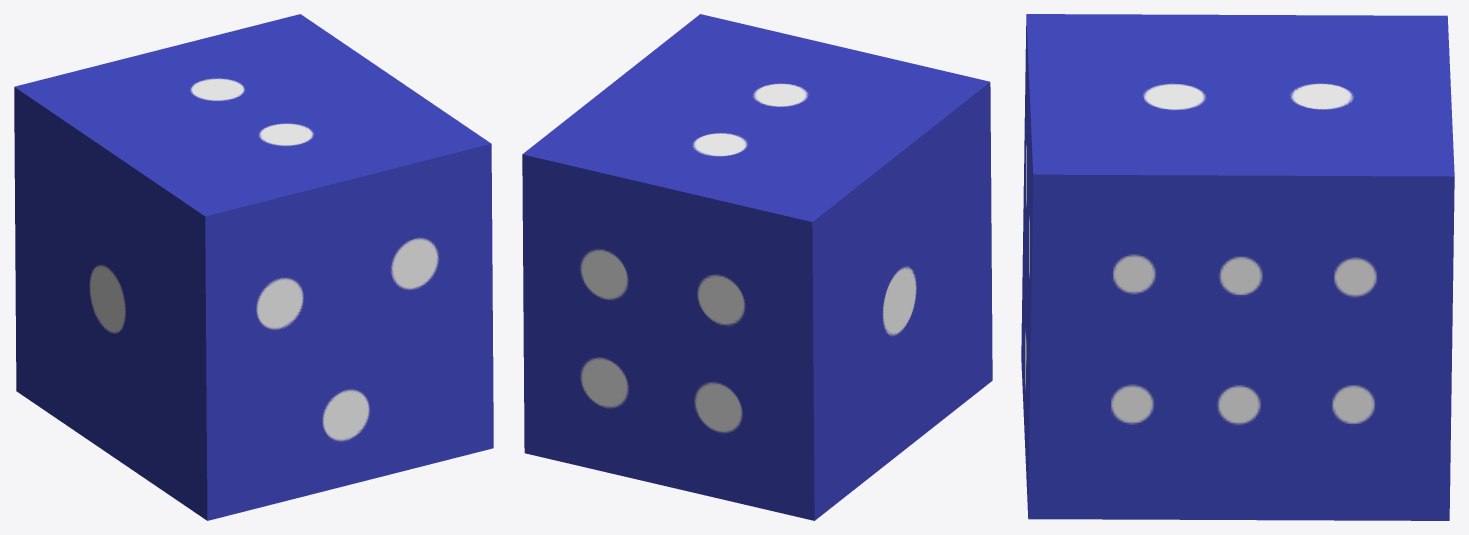
3 renders of one model, left to right at view 1: azimuth 30°, elevation 25°; view 2: azimuth 150°, elevation 25°; view 3: azimuth 270°, elevation 25°, orthographic. The views are drawn at different scales.
Parts seen in each view (by area): view 1: node_id5; view 2: node_id5; view 3: node_id5.
Part boxes in pixels (<box>): node_id5: <box>14,14,493,520</box>; node_id5: <box>522,14,992,520</box>; node_id5: <box>1021,14,1454,520</box>.
Bounding box in the file's own units: 0.4709 × 0.4685 × 0.5264.
1 material, 1 textured.
